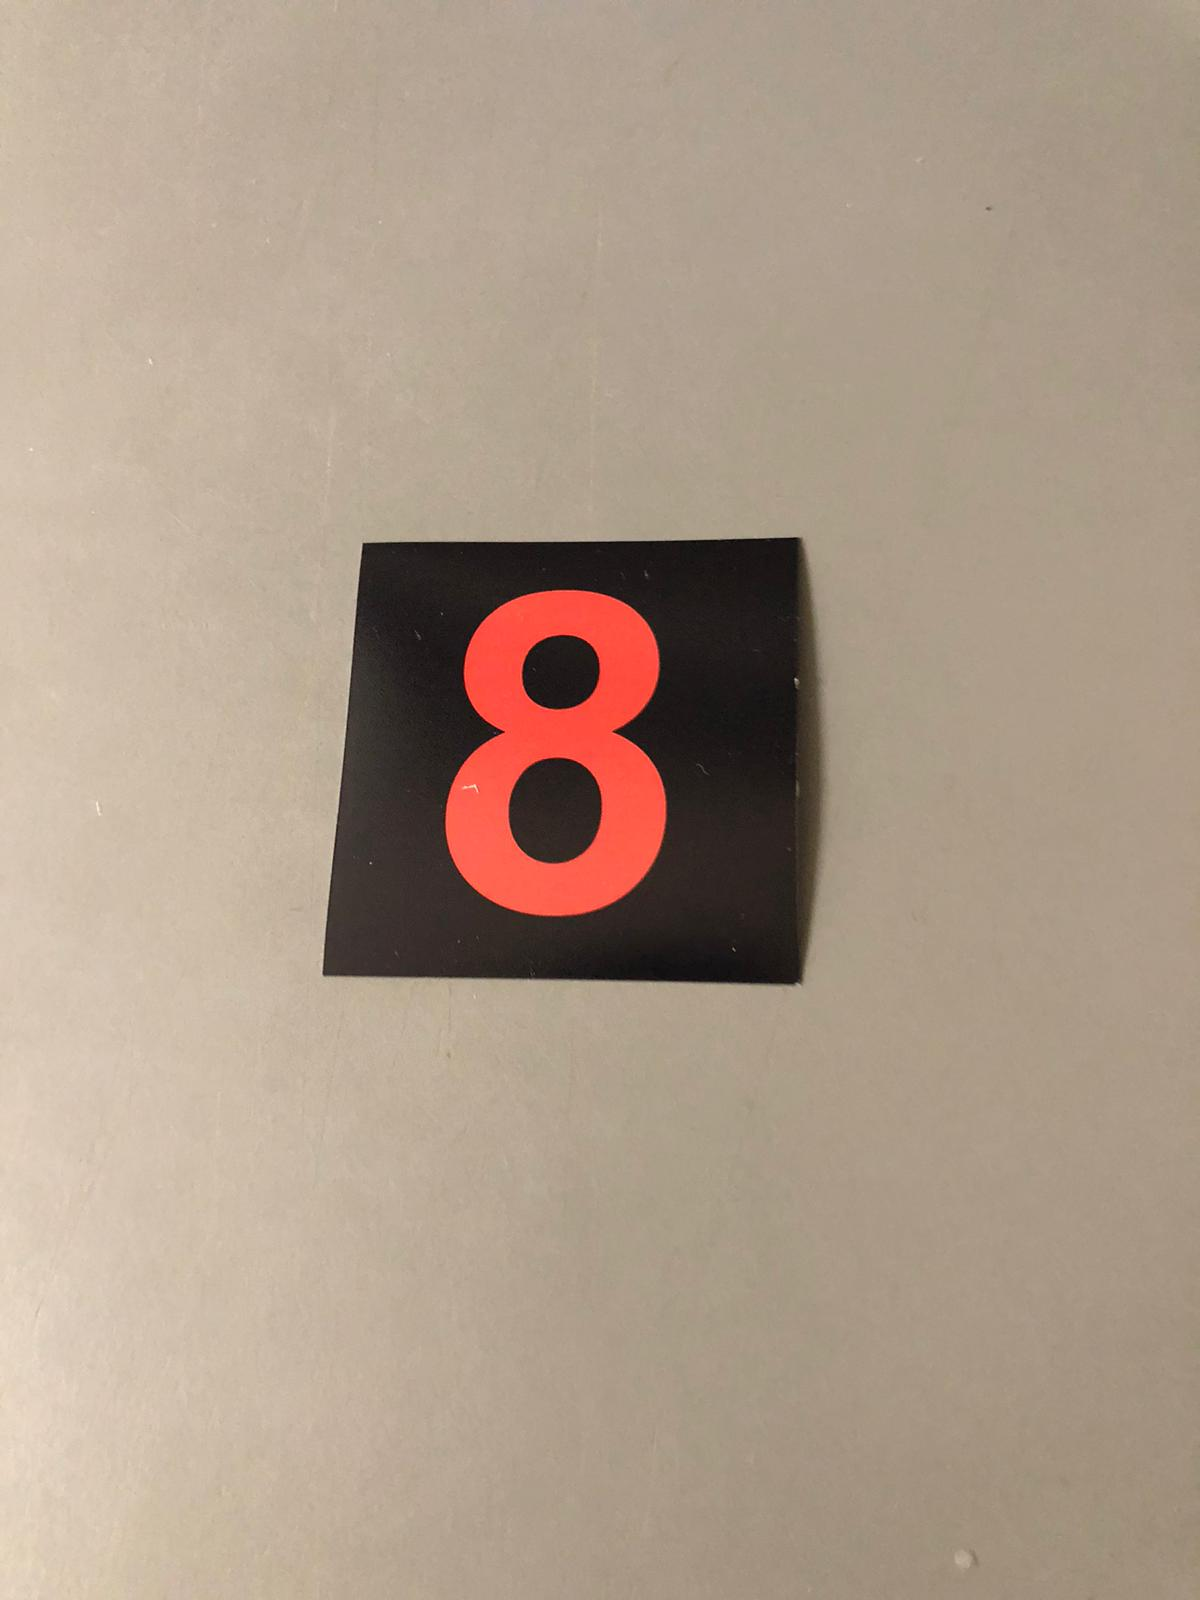Number 8: (383, 553, 753, 960)
